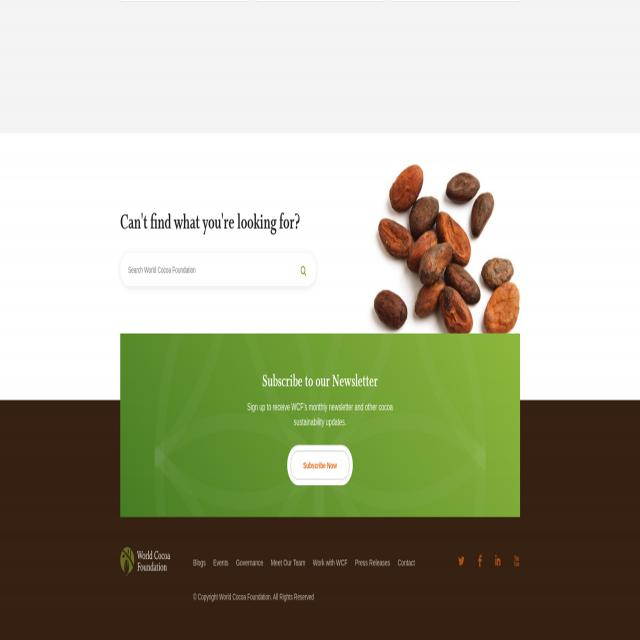button: (290, 451, 350, 480), (120, 547, 170, 576), (457, 551, 465, 571), (514, 551, 520, 571), (495, 551, 501, 571), (478, 551, 482, 571), (300, 266, 306, 276)
field: (120, 255, 315, 287)
